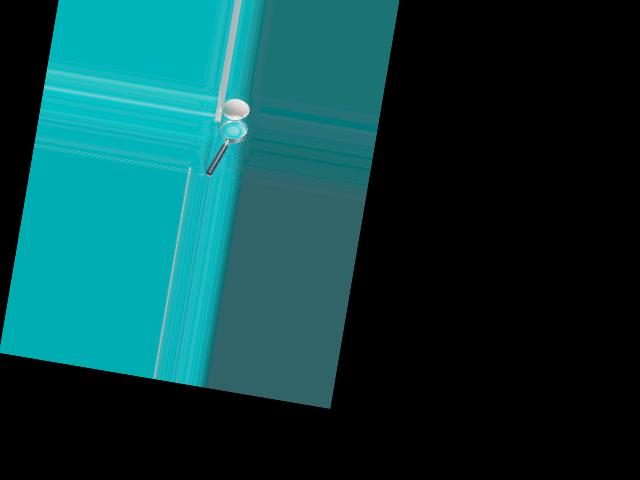egg: (221, 96, 251, 122)
